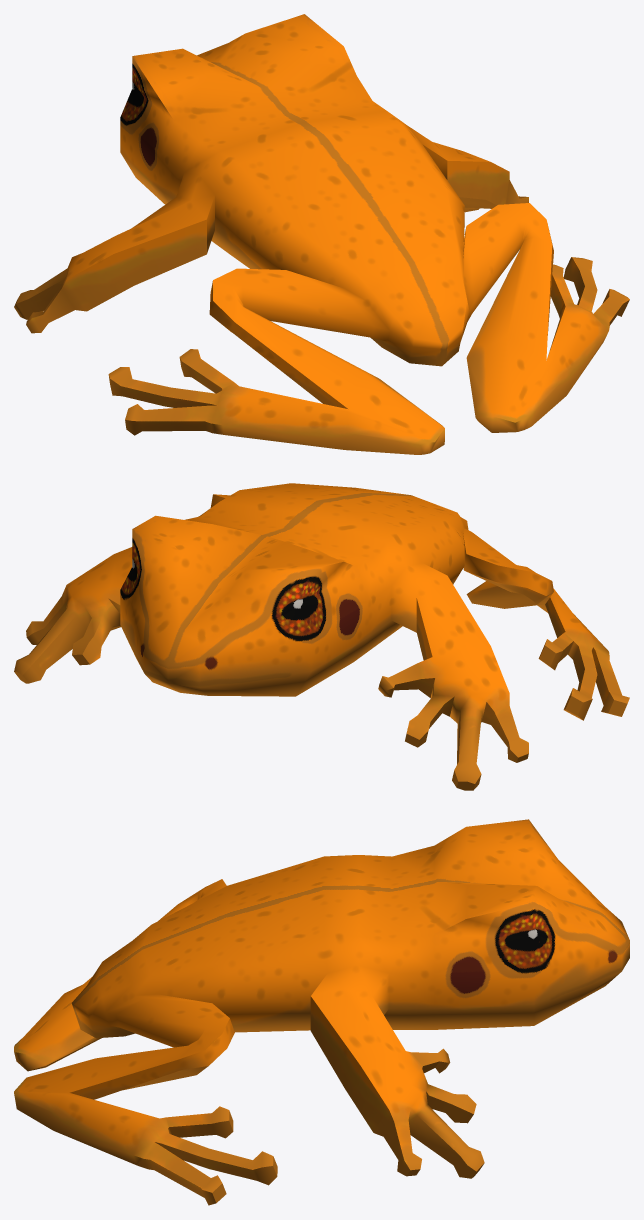
The model's file is coqui.fbx.
3 views of the same model, one above another, from view 1: azimuth 30°, elevation 25°; view 2: azimuth 150°, elevation 25°; view 3: azimuth 270°, elevation 25° (orthographic).
Parts seen in each view (by area): view 1: frog_with_UV:RoadKillOut; view 2: frog_with_UV:RoadKillOut; view 3: frog_with_UV:RoadKillOut.
Part boxes in pixels (x1,y1,x2,y2): frog_with_UV:RoadKillOut: [14, 14, 629, 454]; frog_with_UV:RoadKillOut: [14, 483, 629, 790]; frog_with_UV:RoadKillOut: [14, 819, 629, 1205].
Bounding box in the file's own units: 81.34 × 34.68 × 86.07.
1 material, 1 textured.
